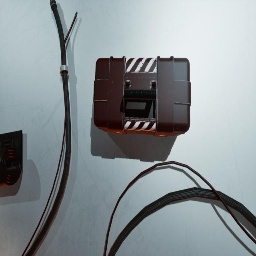FirstAidBox ,: (93, 56, 191, 137)
